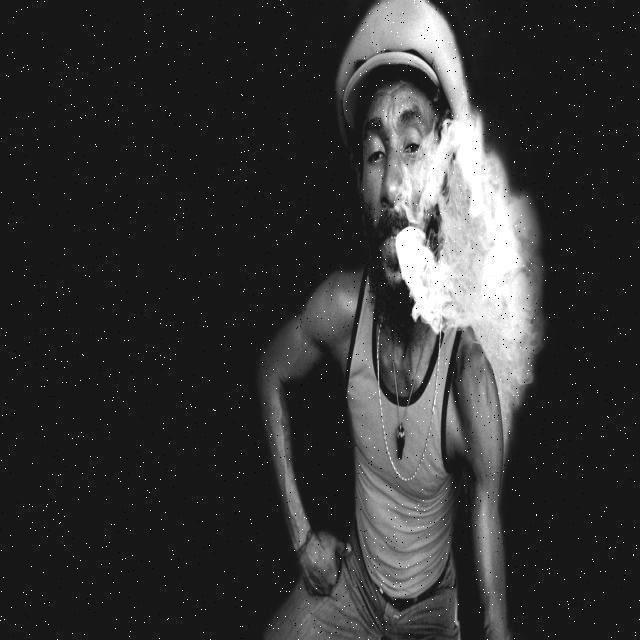smoke: (399, 116, 537, 363)
